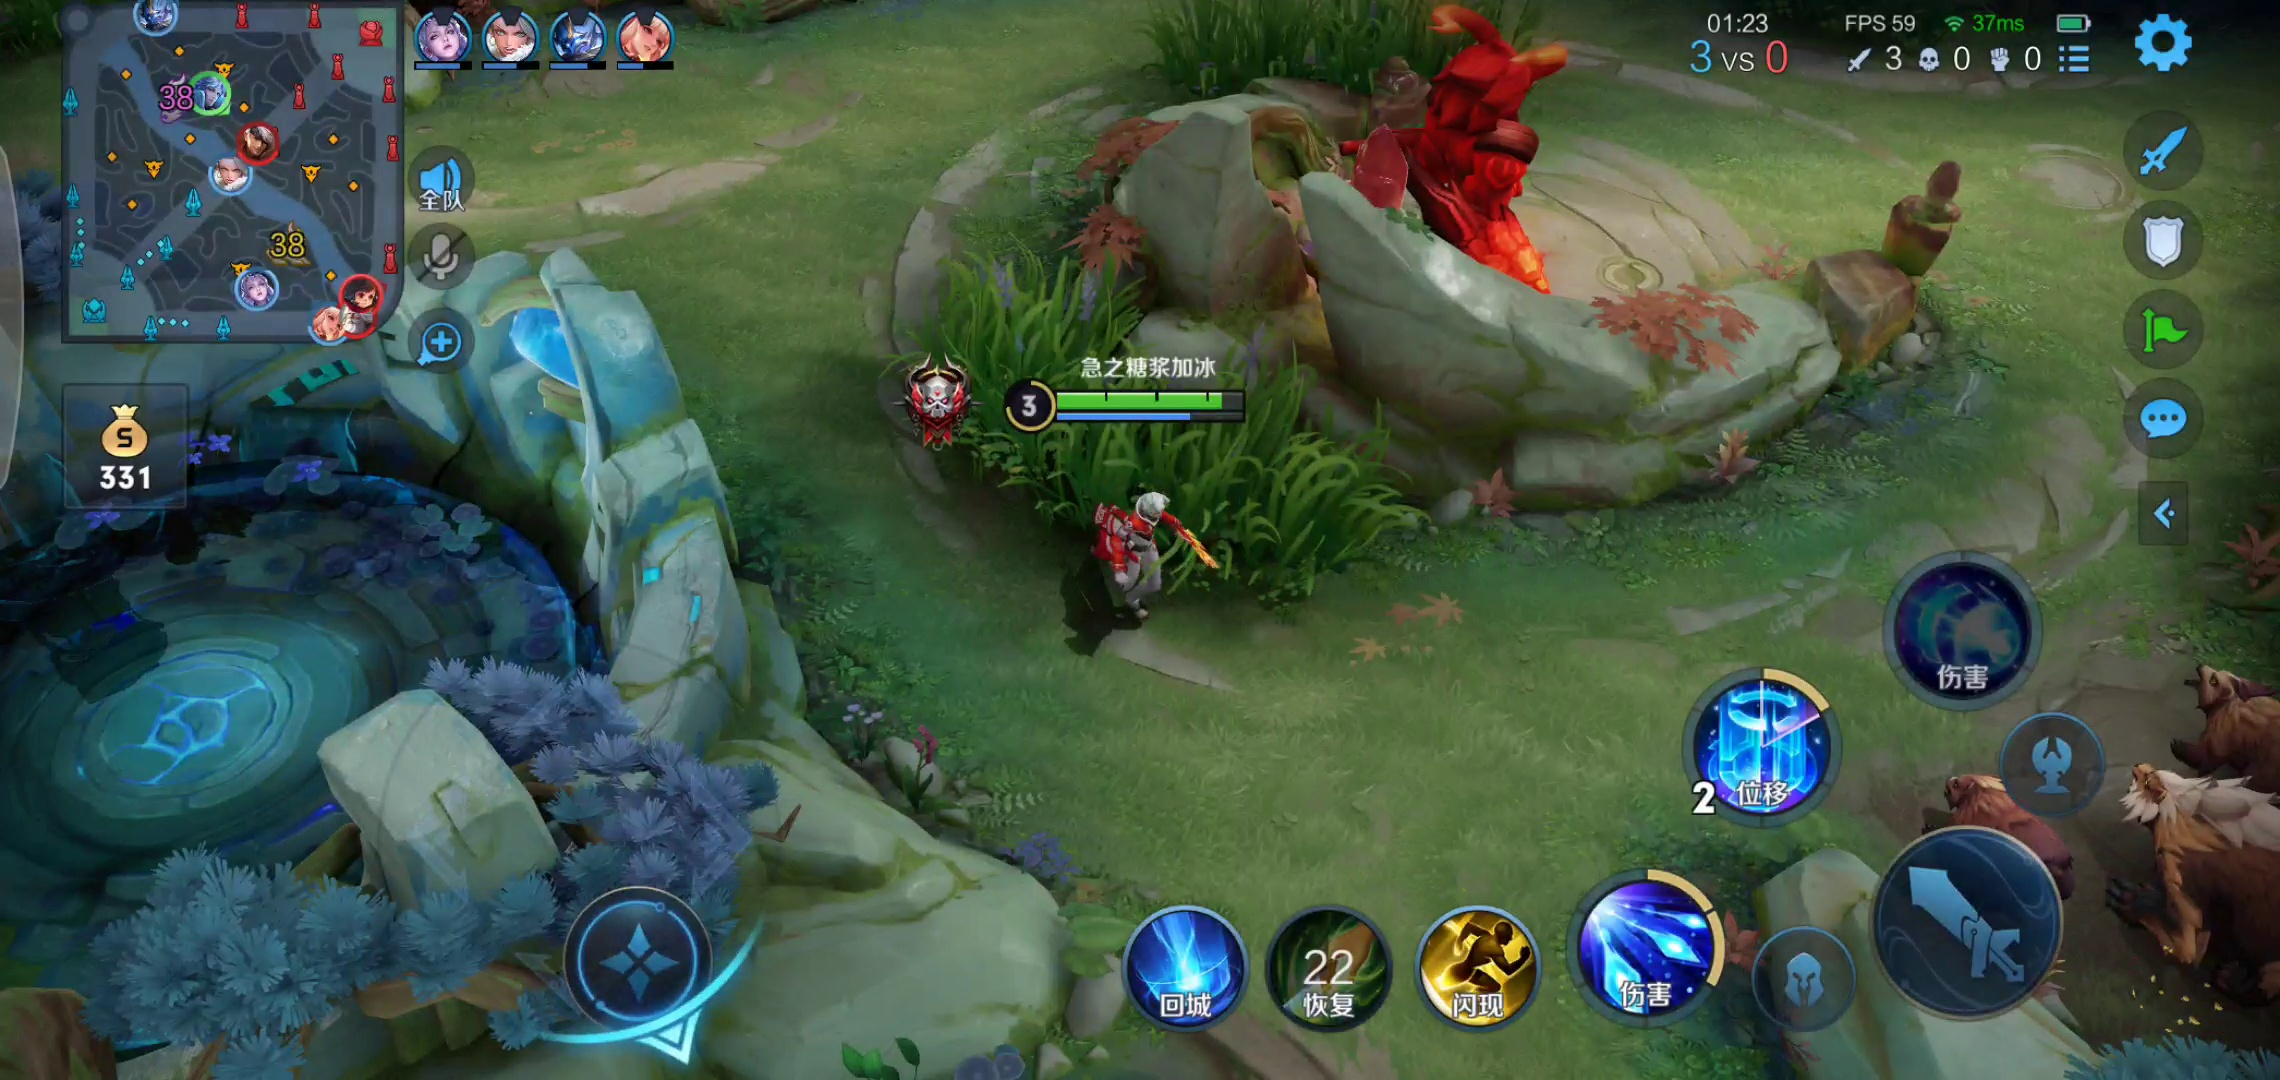buff: (1371, 28, 1567, 302)
grass: (920, 256, 1384, 592), (1125, 4, 1554, 83)
hero: (1061, 490, 1203, 626)
wild_monster: (1960, 593, 2280, 1007)
